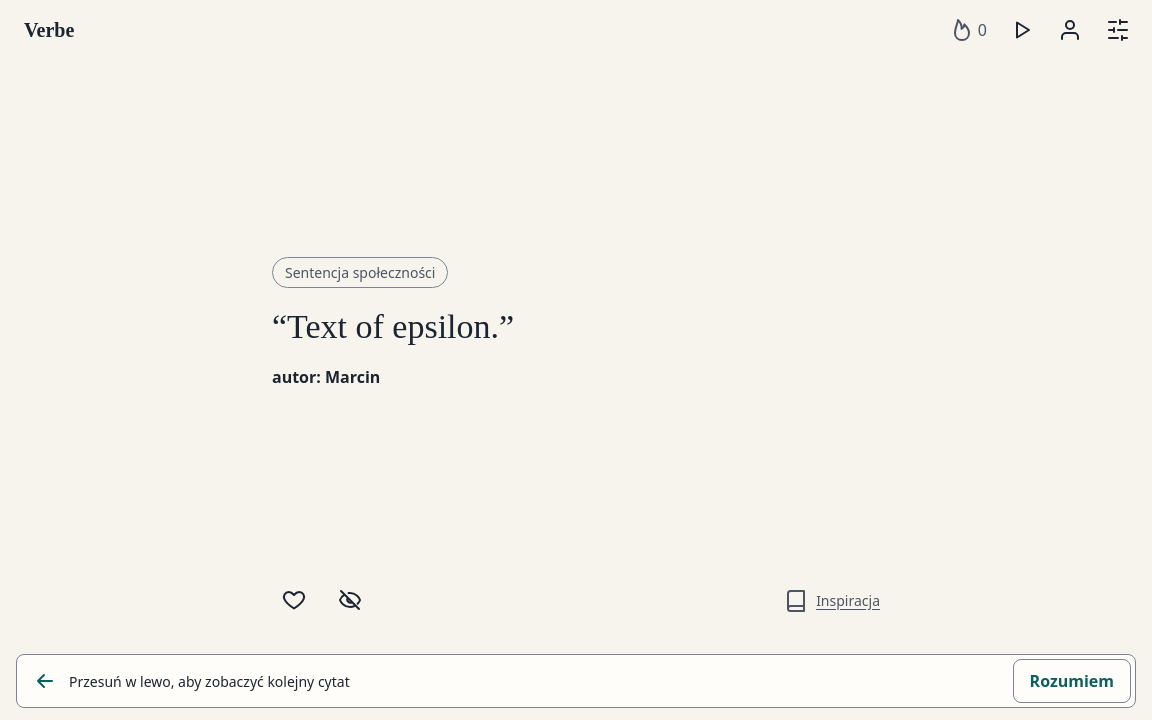
Scenario: reading streak › speaks Polish and leaves out a quote the dataset no longer has
This screenshot has width=1152, height=720.
Click the button named "Seria czytania: 0 dni z rzędu".
click(968, 30)  # box [941, 8, 996, 52]
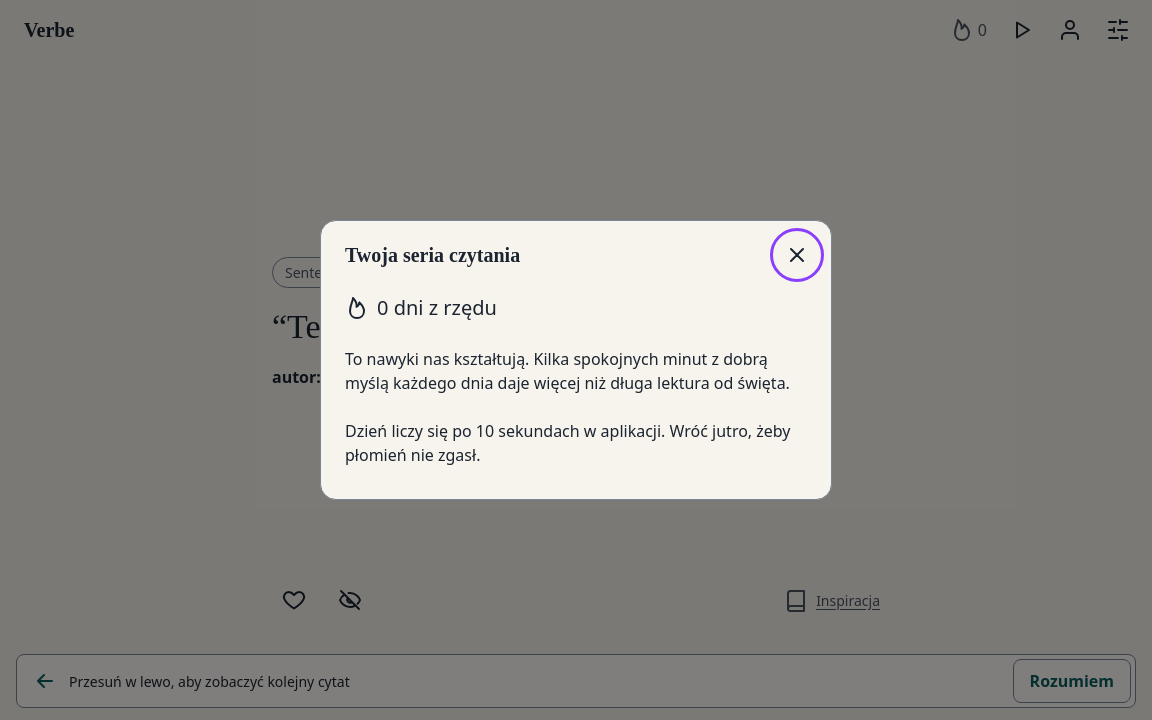
Now the text "To nawyki nas kształtują" is shown, box [345, 348, 790, 394]
Now the text "Wróć jutro" is shown, box [345, 420, 790, 466]
